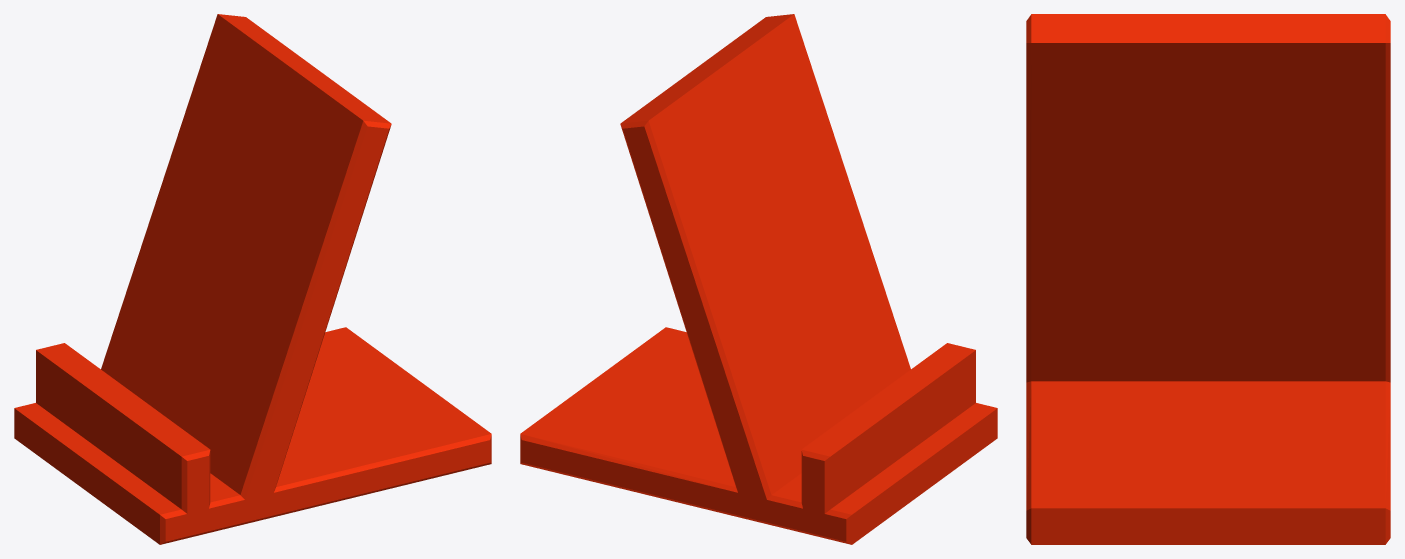
The model's file is soporte-celular.glb.
3 renders of one model, left to right at view 1: azimuth 30°, elevation 25°; view 2: azimuth 150°, elevation 25°; view 3: azimuth 270°, elevation 25°, orthographic. The views are drawn at different scales.
Visible parts, largest first — view 1: soporte-celular; view 2: soporte-celular; view 3: soporte-celular.
Boxes of the visible parts, x1,y1,x2,y2 form: soporte-celular: [14, 14, 491, 544]; soporte-celular: [520, 14, 997, 544]; soporte-celular: [1026, 14, 1390, 544].
Bounding box in the file's own units: 0.138 × 0.1489 × 0.108.
